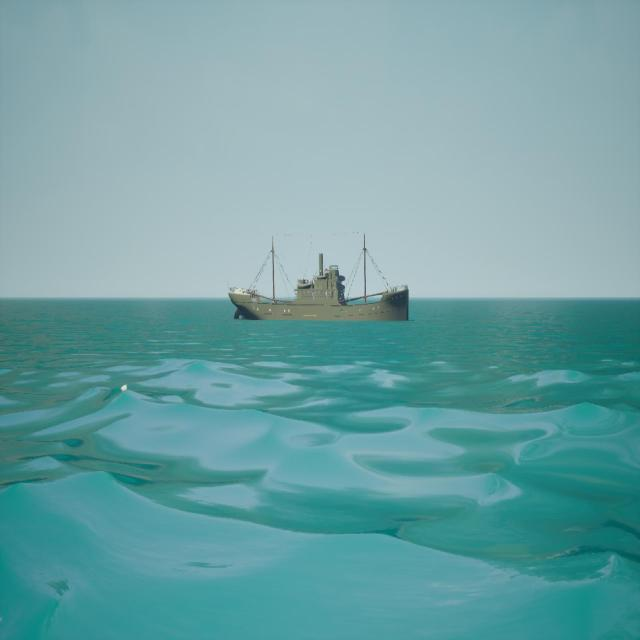fishing ship: (229, 233, 410, 323)
